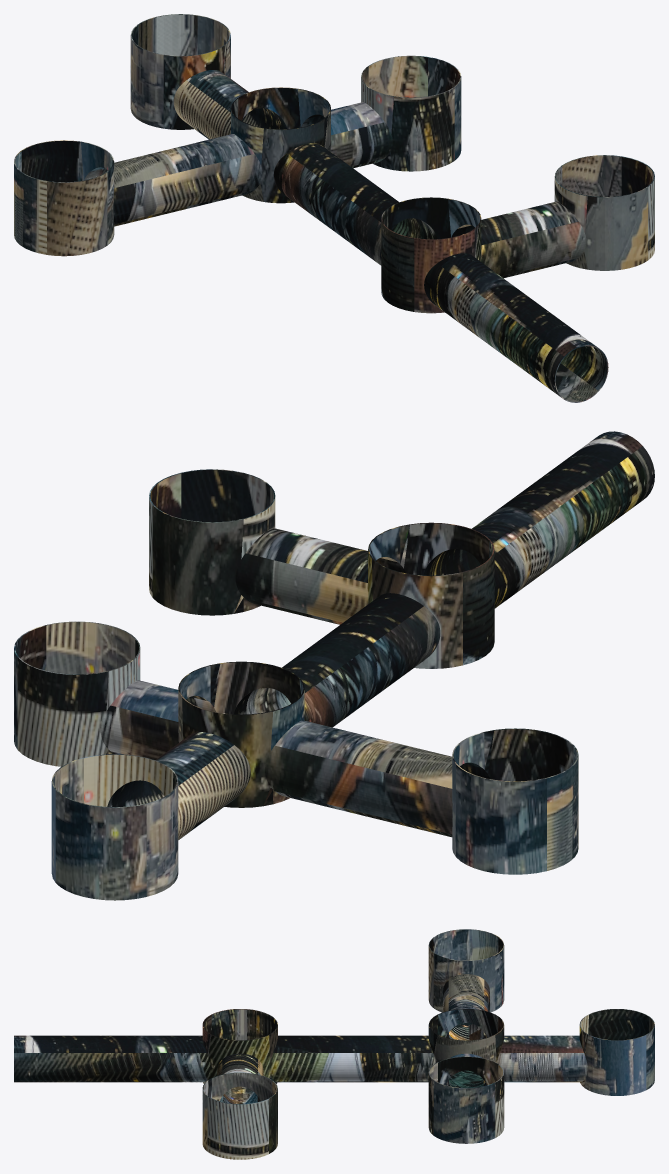
File: pipenet_long.dae
3 renders of one model, top to bottom at view 1: azimuth 30°, elevation 25°; view 2: azimuth 150°, elevation 25°; view 3: azimuth 270°, elevation 25°, orthographic. The views are drawn at different scales.
Parts seen in each view (by area): view 1: pipeICAIR long; view 2: pipeICAIR long; view 3: pipeICAIR long.
Boxes of the visible parts, box(x1,y1,x2,y2) form: pipeICAIR long: box(14, 14, 654, 402); pipeICAIR long: box(14, 431, 654, 900); pipeICAIR long: box(14, 929, 654, 1159).
Bounding box in the file's own units: 2.75 × 4.25 × 0.405.
1 material, 1 textured.
